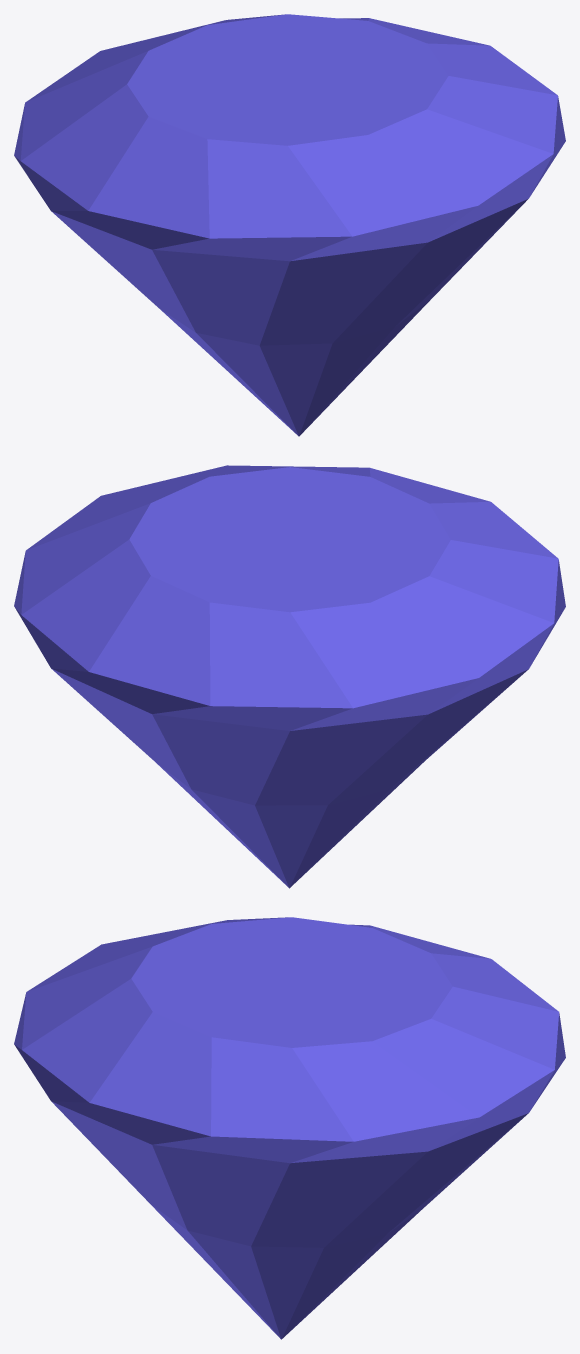
The model's file is Brilliant_Safia.fbx.
3 renders of one model, top to bottom at view 1: azimuth 30°, elevation 25°; view 2: azimuth 150°, elevation 25°; view 3: azimuth 270°, elevation 25°, orthographic.
Visible parts, largest first — view 1: BrilliantCut; view 2: BrilliantCut; view 3: BrilliantCut.
Boxes of the visible parts, x1,y1,x2,y2 form: BrilliantCut: [14, 14, 565, 436]; BrilliantCut: [14, 465, 565, 888]; BrilliantCut: [14, 917, 565, 1339].
Bounding box in the file's own units: 79.44 × 57 × 79.42.
